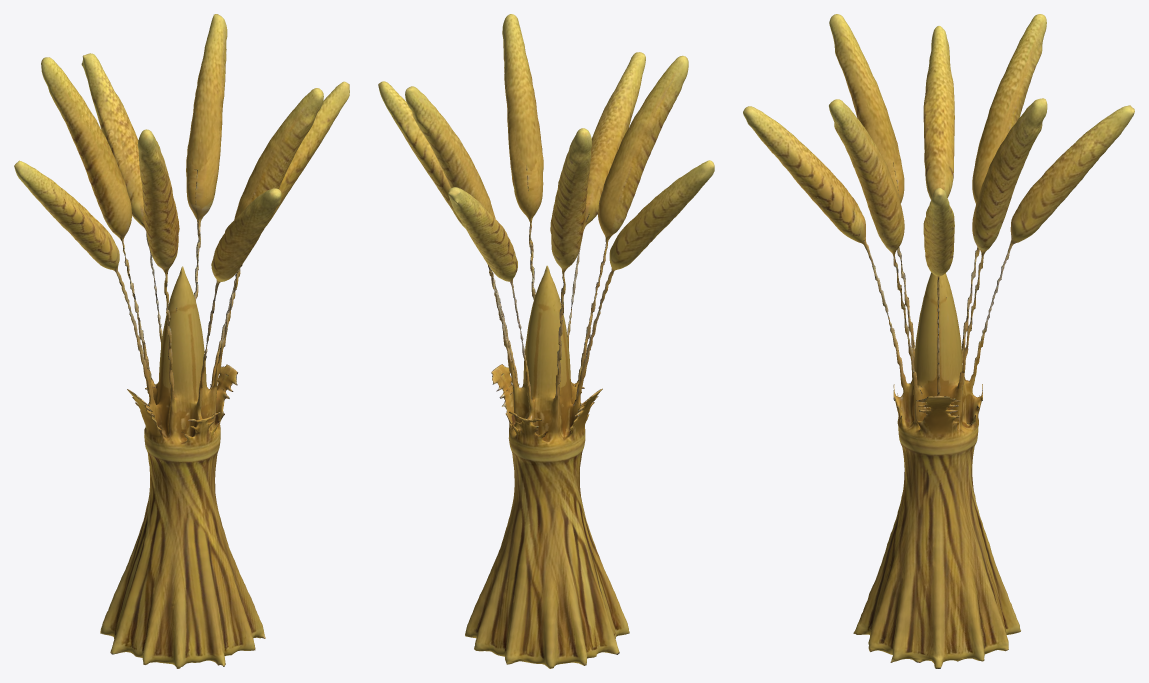
The model's file is wheat_stalks.glb.
3 renders of one model, left to right at view 1: azimuth 30°, elevation 25°; view 2: azimuth 150°, elevation 25°; view 3: azimuth 270°, elevation 25°, orthographic. The views are drawn at different scales.
Parts seen in each view (by area): view 1: model; view 2: model; view 3: model.
Part boxes in pixels (box(x1,y1,x2,y2)): model: box(14, 14, 349, 668); model: box(378, 14, 714, 668); model: box(743, 14, 1134, 668).
Bounding box in the file's own units: 1.07 × 1.72 × 1.06.
1 material, 1 textured.
